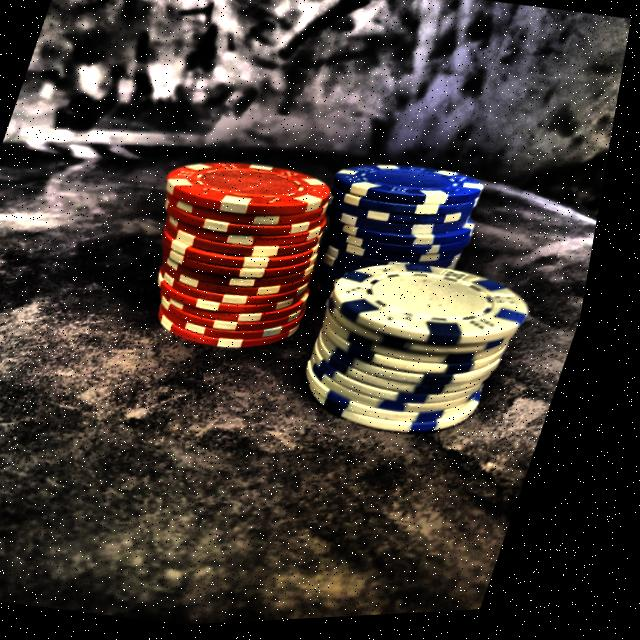Chip: (115, 122, 376, 383), (285, 228, 558, 467), (292, 149, 503, 342)
